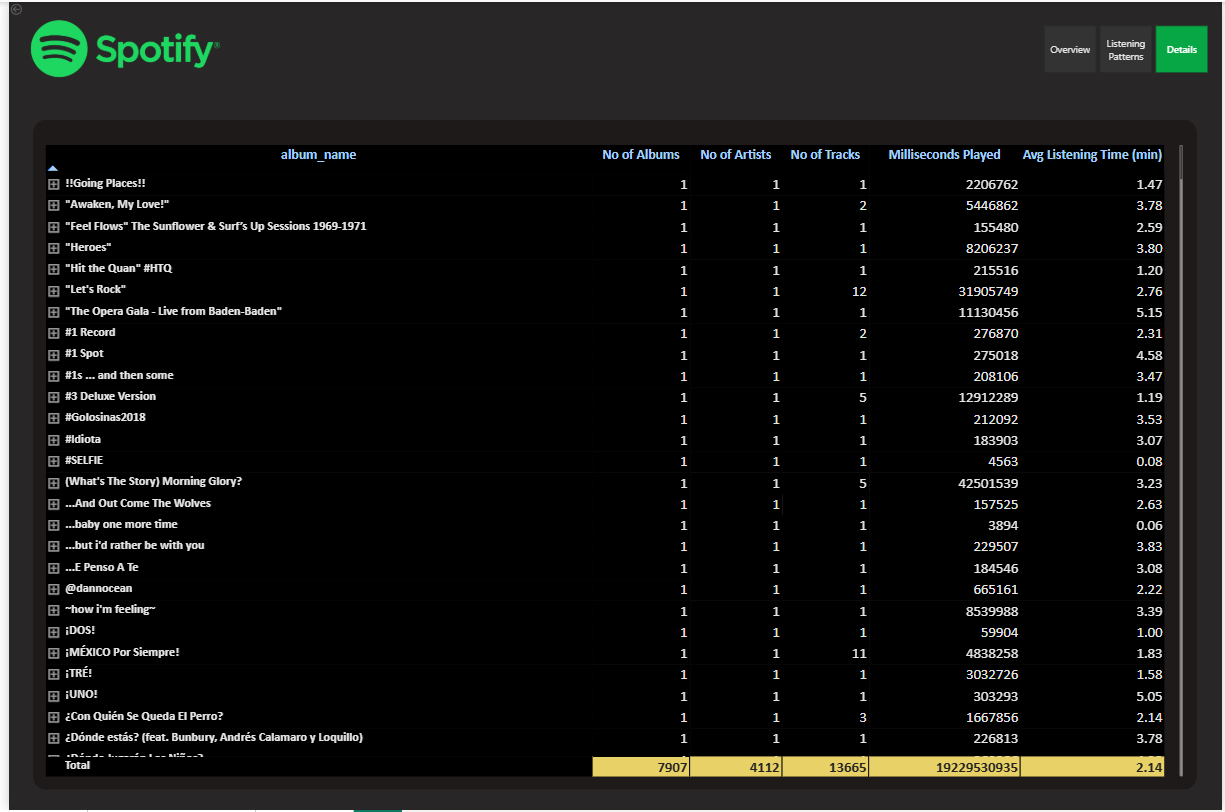

What the dashboard file says about the page in this screenshot:
{"tool":"powerbi","page":{"name":"Details","canvas":[3300,2200],"ordinal":2},"visuals":[{"type":"image","box":[32,32,575,200],"z":0},{"type":"shape","box":[64,320,3168,1824],"z":1000},{"type":"pivotTable","fields":{"Rows":["spotify_history.album_name","spotify_history.artist_name","spotify_history.track_name","spotify_history.platform","spotify_history.Track Played Date"],"Values":["spotify_history.No of Albums","spotify_history.No of Artists","spotify_history.No of Tracks","Sum(spotify_history.ms_played)","spotify_history.Avg Listening Time (min)"]},"box":[96,384,3104,1728],"z":2000},{"type":"actionButton","box":[0,0,100,40],"z":3000},{"type":"pageNavigator","box":[2816,64,448,128],"z":4000}]}

Visuals, with their boxes on the page's 3300x2200 design canvas (x1, y1, x2, y2). These are canvas units, not pixel positions in the 1225x812 screenshot, which may show the page scaled, cropped or inside an application window:
image: [left=32, top=32, right=607, bottom=232]
shape: [left=64, top=320, right=3232, bottom=2144]
pivotTable - spotify_history.album_name x spotify_history.artist_name: [left=96, top=384, right=3200, bottom=2112]
actionButton: [left=0, top=0, right=100, bottom=40]
pageNavigator: [left=2816, top=64, right=3264, bottom=192]
